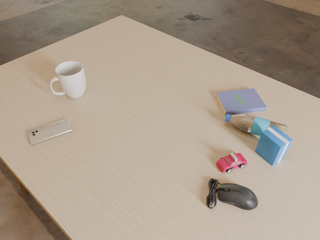book: (216, 88, 267, 115)
bottle: (225, 114, 287, 136)
box: (255, 126, 293, 166)
cup: (50, 61, 86, 98)
mouse: (207, 179, 258, 210)
phone: (27, 119, 72, 145)
toy_car: (216, 153, 247, 173)
